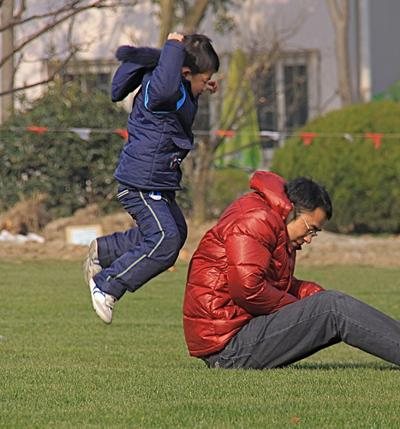person: (86, 25, 218, 331)
